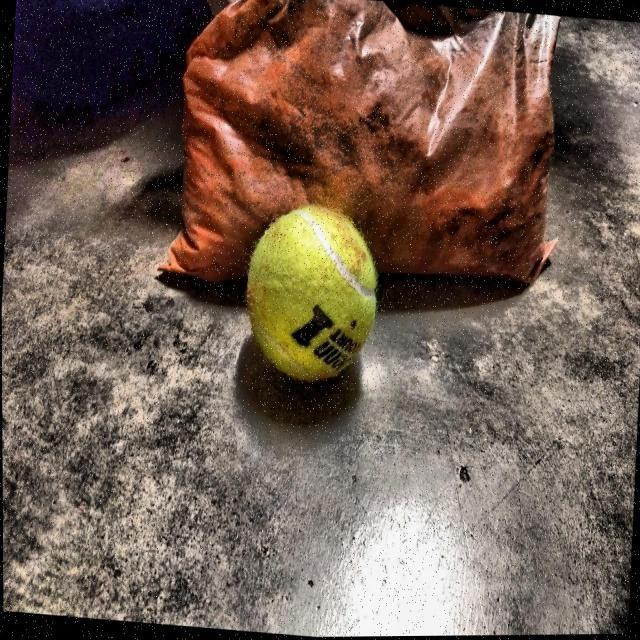tennis-ball: (236, 199, 394, 396)
